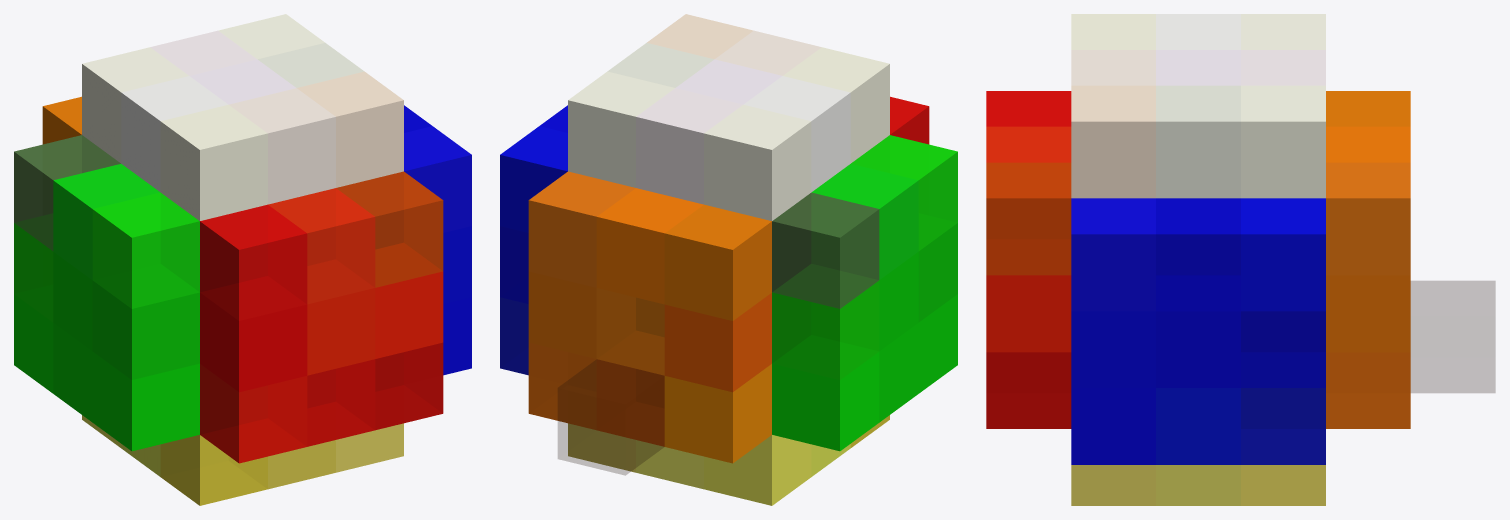
Rendered from iter_200.obj.
3 views of the same model, side by side, from view 1: azimuth 30°, elevation 25°; view 2: azimuth 150°, elevation 25°; view 3: azimuth 270°, elevation 25° (orthographic). The views are drawn at different scales.
Visible parts, largest first — view 1: iter_200; view 2: iter_200; view 3: iter_200.
Part boxes in pixels (left/top/right/bottom): iter_200: left=14, top=14, right=471, bottom=505; iter_200: left=500, top=14, right=957, bottom=505; iter_200: left=986, top=14, right=1495, bottom=505.
Bounding box in the file's own units: 0.5 × 0.5 × 0.6.
